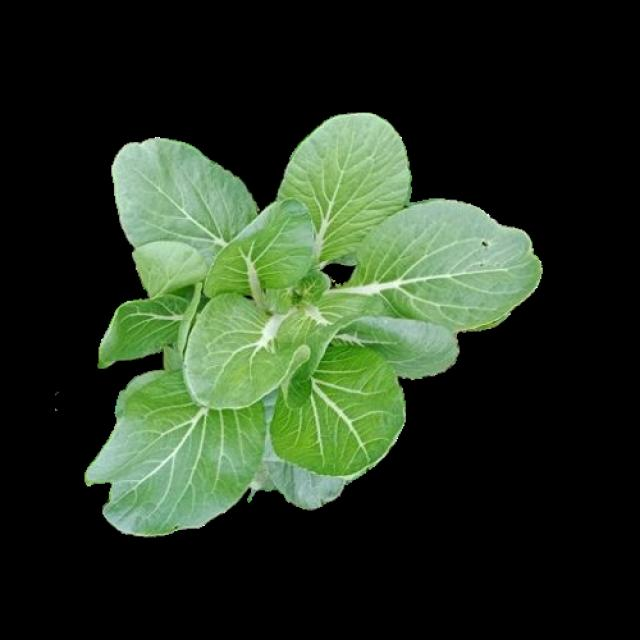healthy: (82, 112, 540, 532)
mature: (85, 115, 542, 535)
